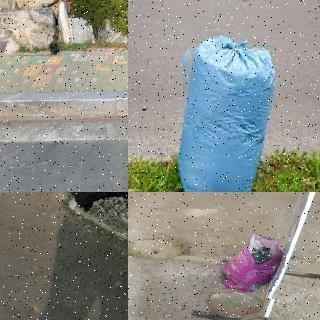Garbage: (171, 30, 282, 192), (218, 225, 287, 298), (45, 192, 128, 219), (48, 39, 63, 56)
